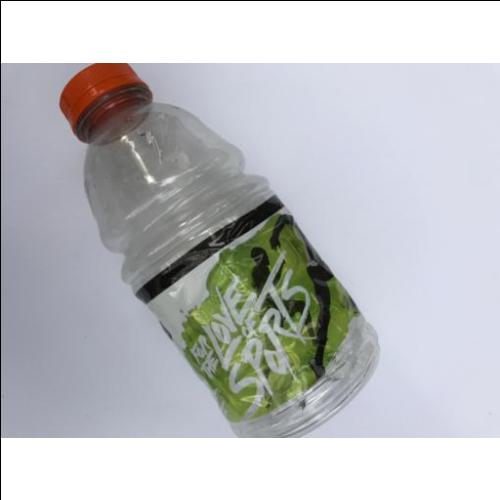plastic: (59, 61, 380, 435)
